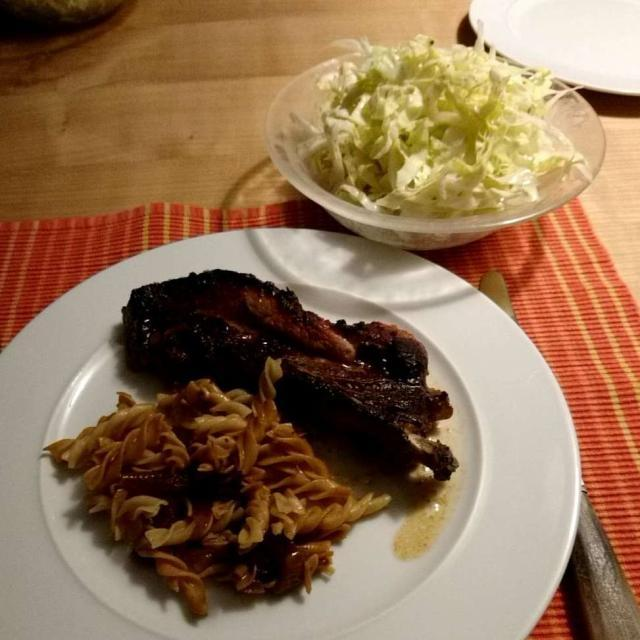mixed-vegetables: (126, 467, 327, 600)
pasta: (58, 402, 398, 610)
salad: (303, 50, 545, 202)
